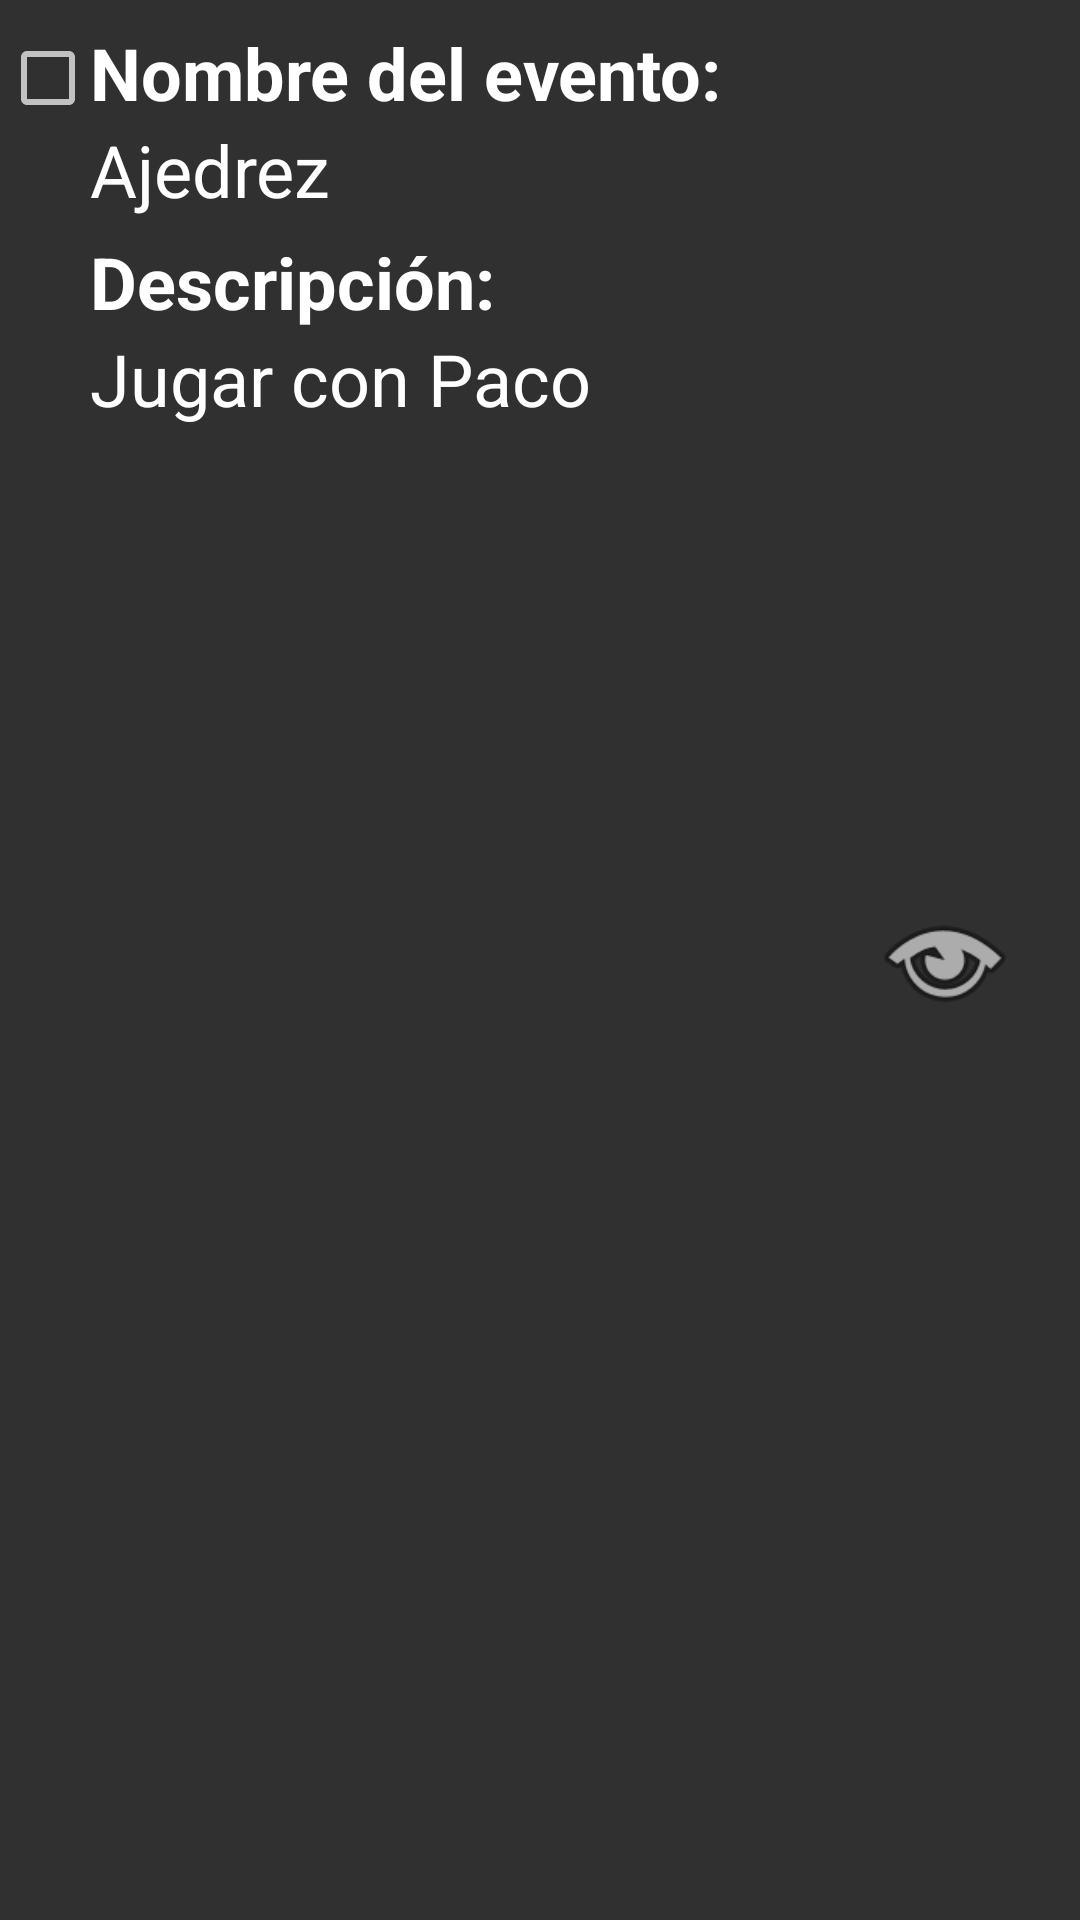

Icon click points for this 1080 x 1920 phone screenshot, format point (x, y):
view: point (945, 963)
